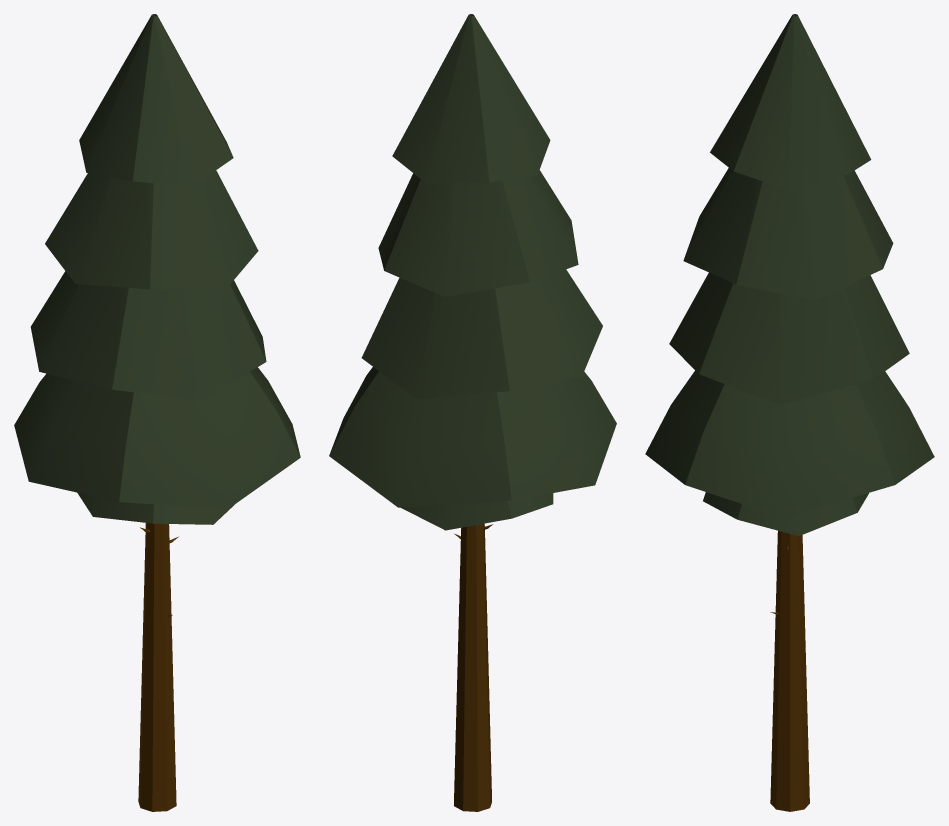
File: Tree7.fbx
3 renders of one model, left to right at view 1: azimuth 30°, elevation 25°; view 2: azimuth 150°, elevation 25°; view 3: azimuth 270°, elevation 25°, orthographic.
Visible parts, largest first — view 1: Röhre, Röhre_1, Röhre_2, Röhre_3, Kegel_3, Röhre_4; view 2: Röhre, Röhre_1, Röhre_2, Röhre_3, Kegel_3, Röhre_4; view 3: Röhre, Röhre_1, Röhre_2, Röhre_3, Kegel_3, Röhre_4.
Part boxes in pixels (bbox=[...]): Röhre: bbox=[14, 367, 300, 509]; Röhre_1: bbox=[30, 271, 266, 400]; Röhre_2: bbox=[45, 170, 258, 290]; Röhre_3: bbox=[79, 14, 233, 186]; Kegel_3: bbox=[138, 523, 178, 811]; Röhre_4: bbox=[77, 492, 234, 524]; Röhre: bbox=[329, 367, 616, 507]; Röhre_1: bbox=[361, 269, 602, 399]; Röhre_2: bbox=[378, 170, 578, 296]; Röhre_3: bbox=[392, 14, 550, 183]; Kegel_3: bbox=[454, 523, 493, 811]; Röhre_4: bbox=[401, 493, 553, 530]; Röhre: bbox=[645, 370, 934, 517]; Röhre_1: bbox=[669, 272, 909, 405]; Röhre_2: bbox=[683, 168, 893, 300]; Röhre_3: bbox=[710, 14, 871, 190]; Kegel_3: bbox=[770, 530, 809, 811]; Röhre_4: bbox=[703, 492, 868, 536].
Size of the model in its own units: 355 by 1037 by 345.
